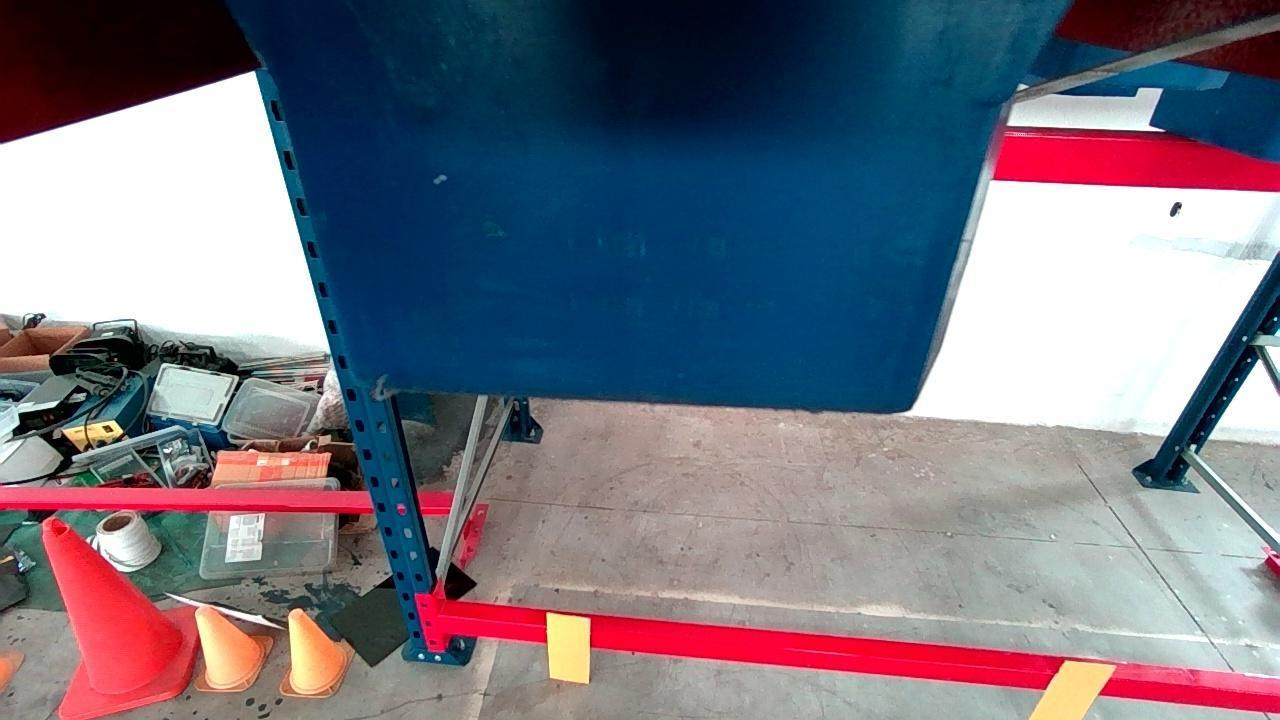h_rack: (439, 610, 1280, 712)
orange_strip: (1034, 660, 1115, 720), (550, 611, 587, 684)
